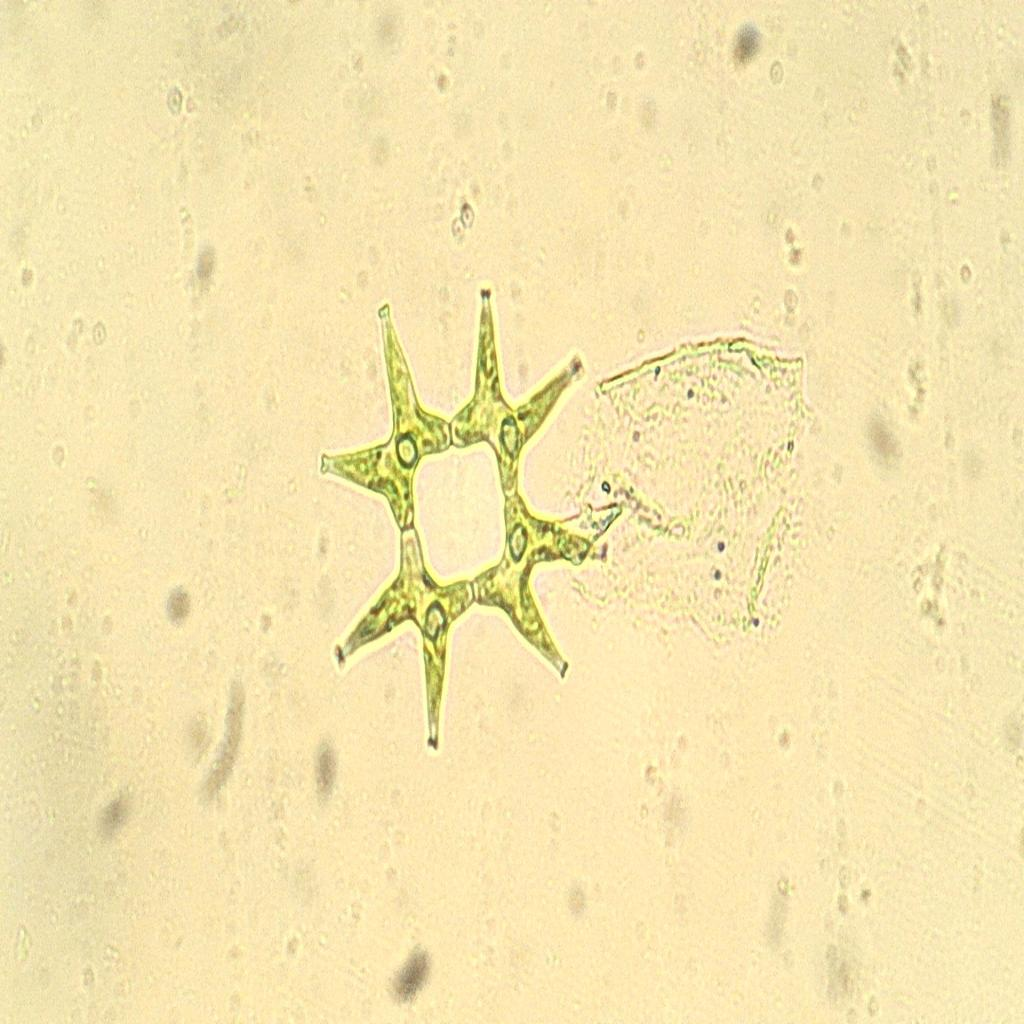Pediastrum_75O: (300, 273, 613, 766)
